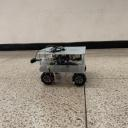cart: (36, 46, 86, 86)
